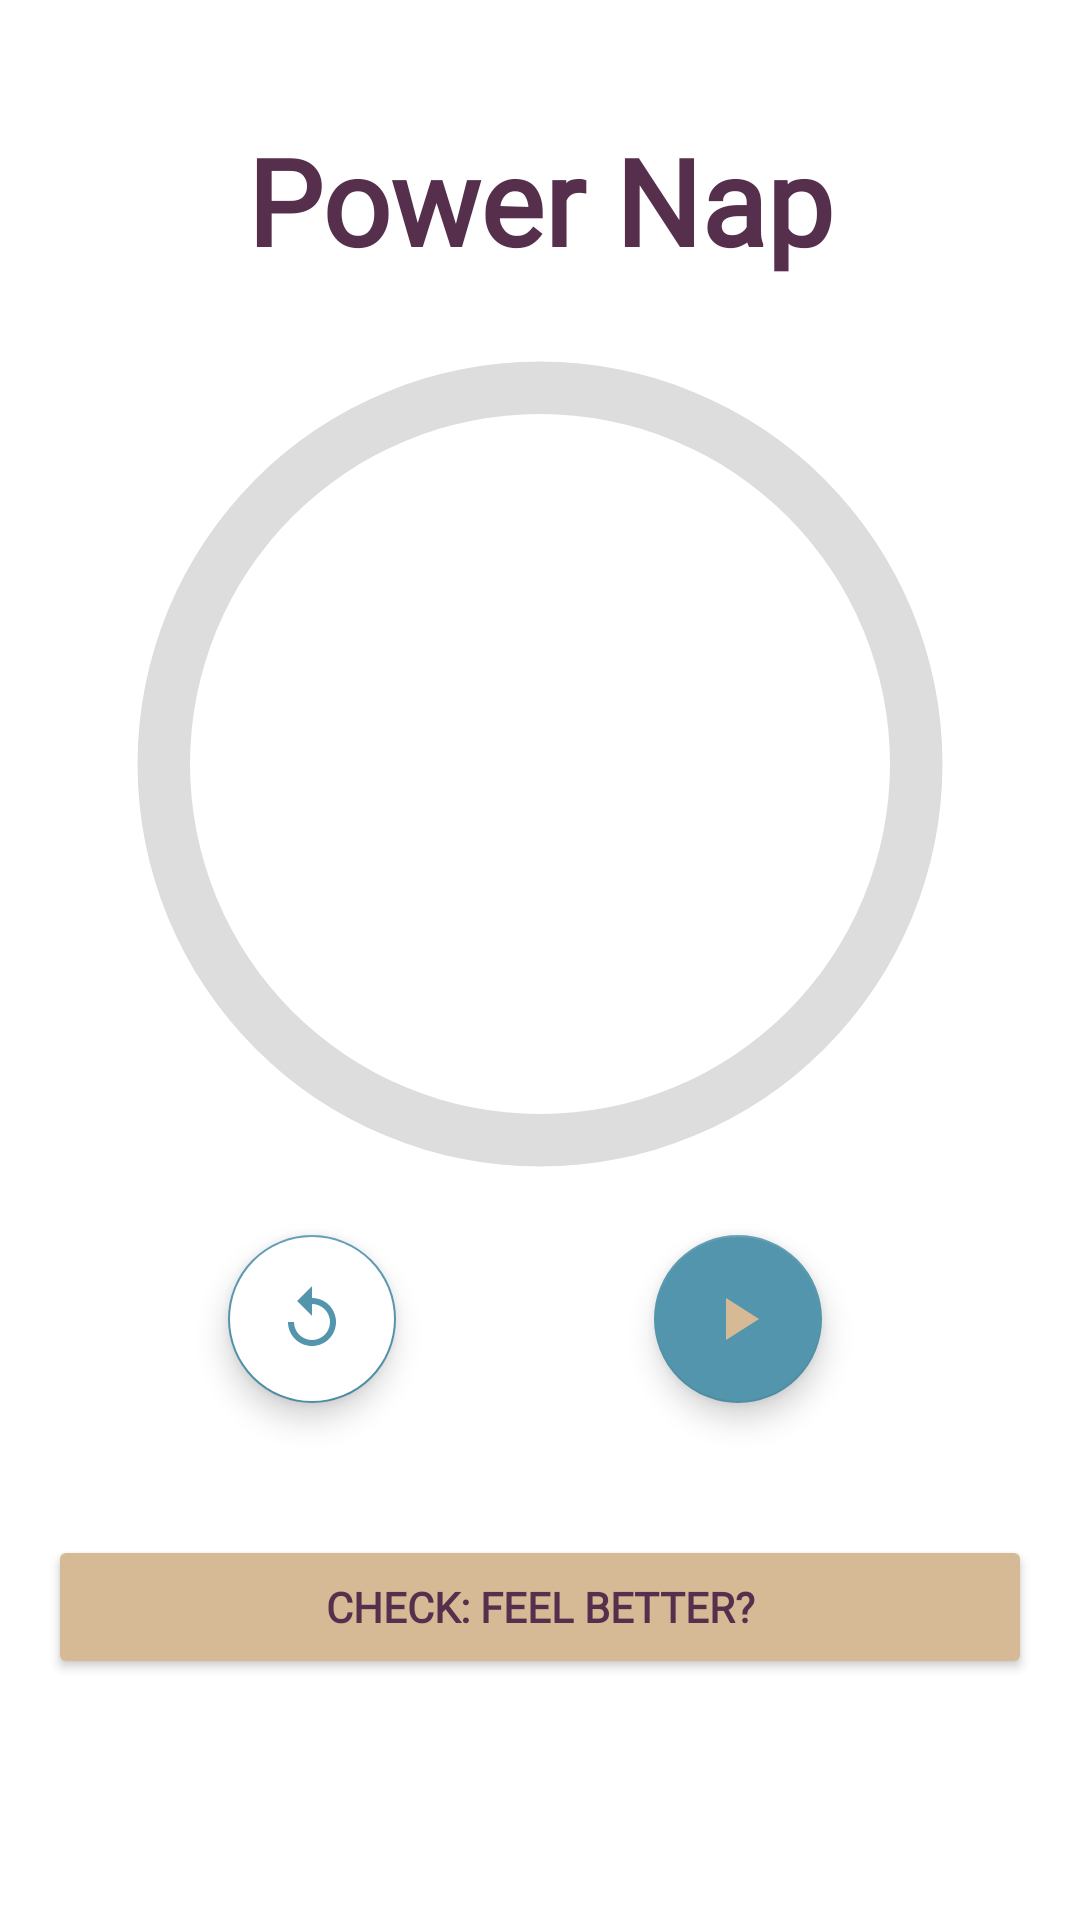

Named icons in this screenshot (1080w x 1920h) and their bounding boxes, (x1, y1, x2, y2):
play: (654, 1235, 822, 1403)
restart: (228, 1235, 396, 1403)
